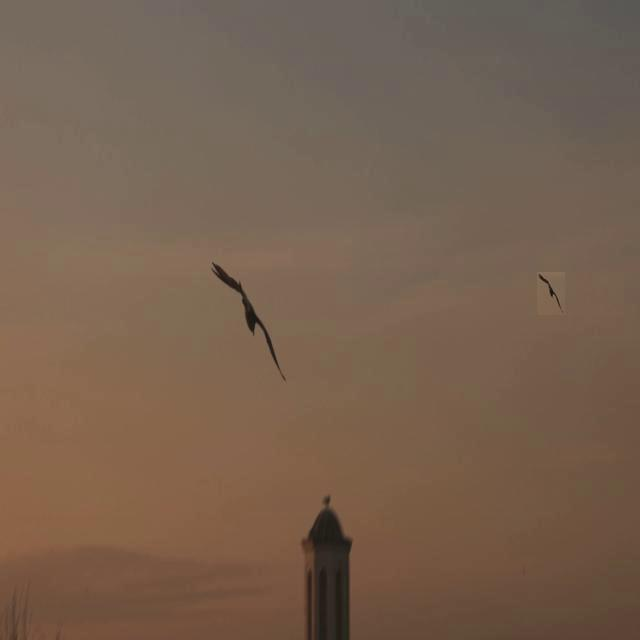bird: (204, 257, 293, 387), (532, 268, 572, 318), (318, 490, 338, 509)
